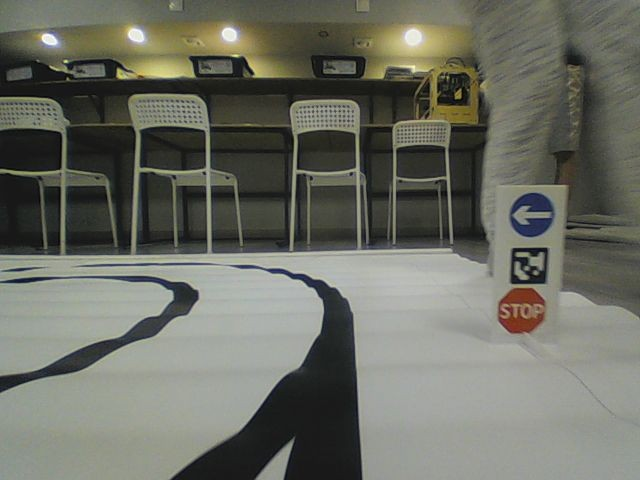Stop: (493, 286, 549, 336)
